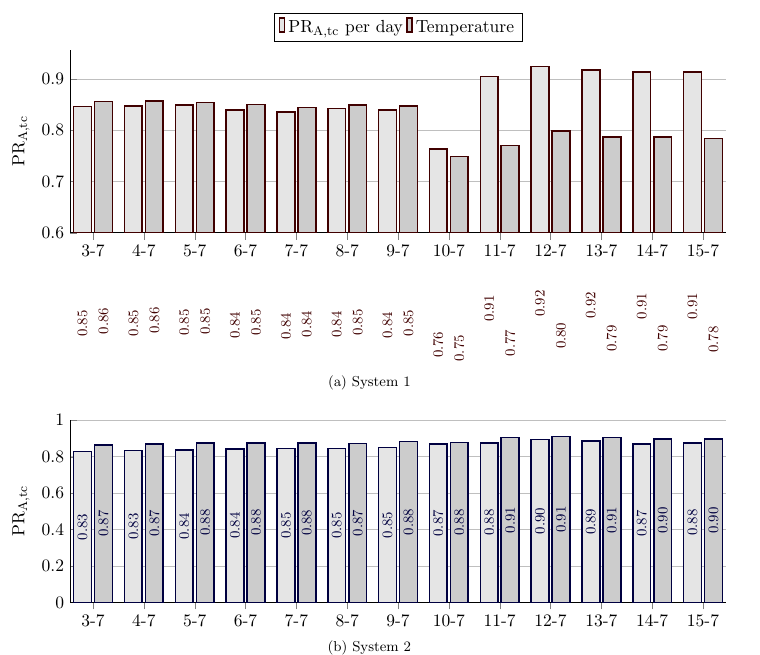S1_AxisNotZero: (7, 378, 760, 655), (5, 52, 755, 274)
